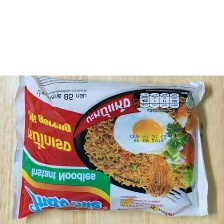snack: (4, 75, 215, 224)
